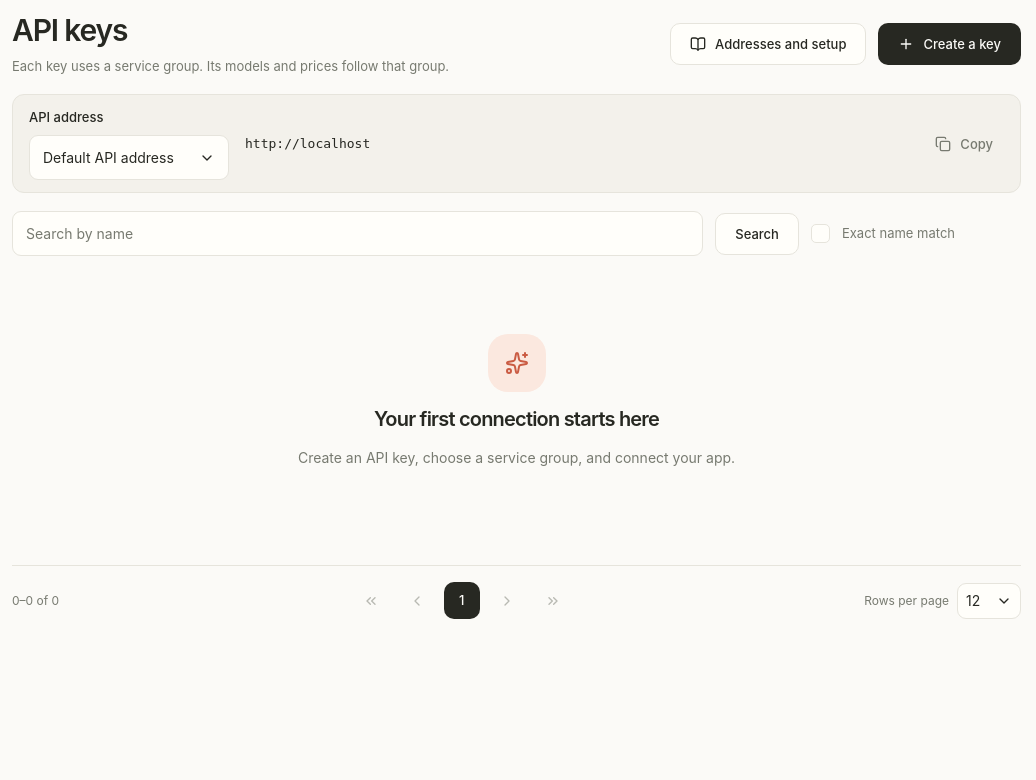
Test: shows a search-specific empty state instead of the first-key onboarding prompt
Type "missing" into the field named "Search keys" at [358, 234], box [12,211,703,256]
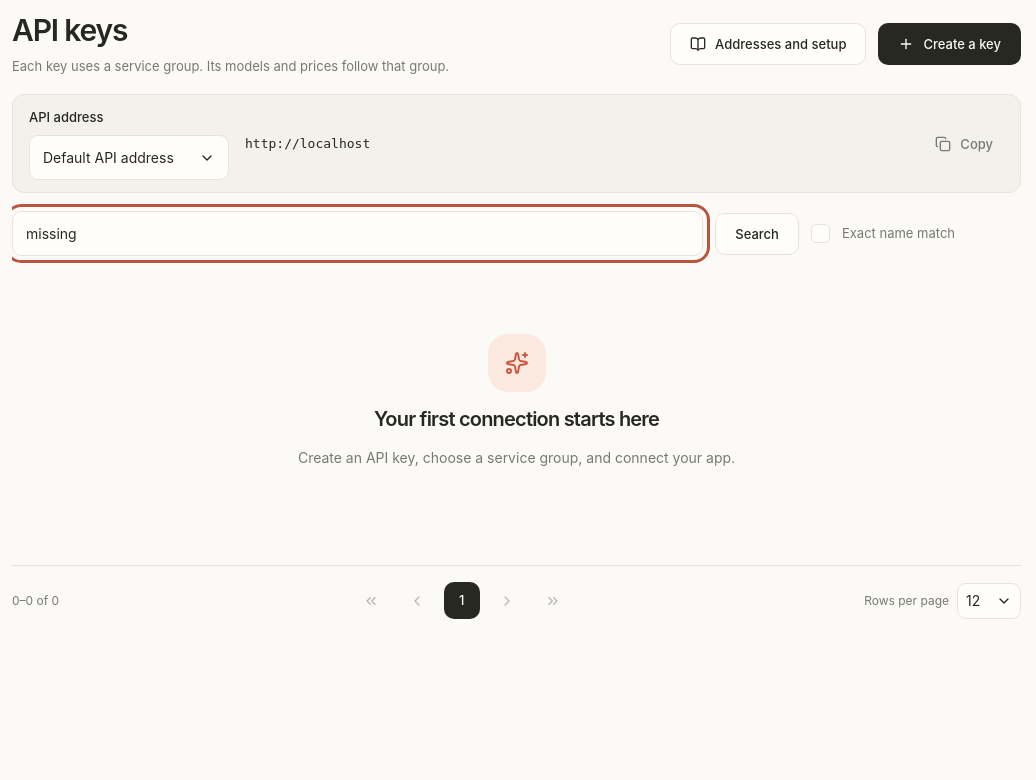
Click the button "Search" at [757, 234], box [715,212,799,255]
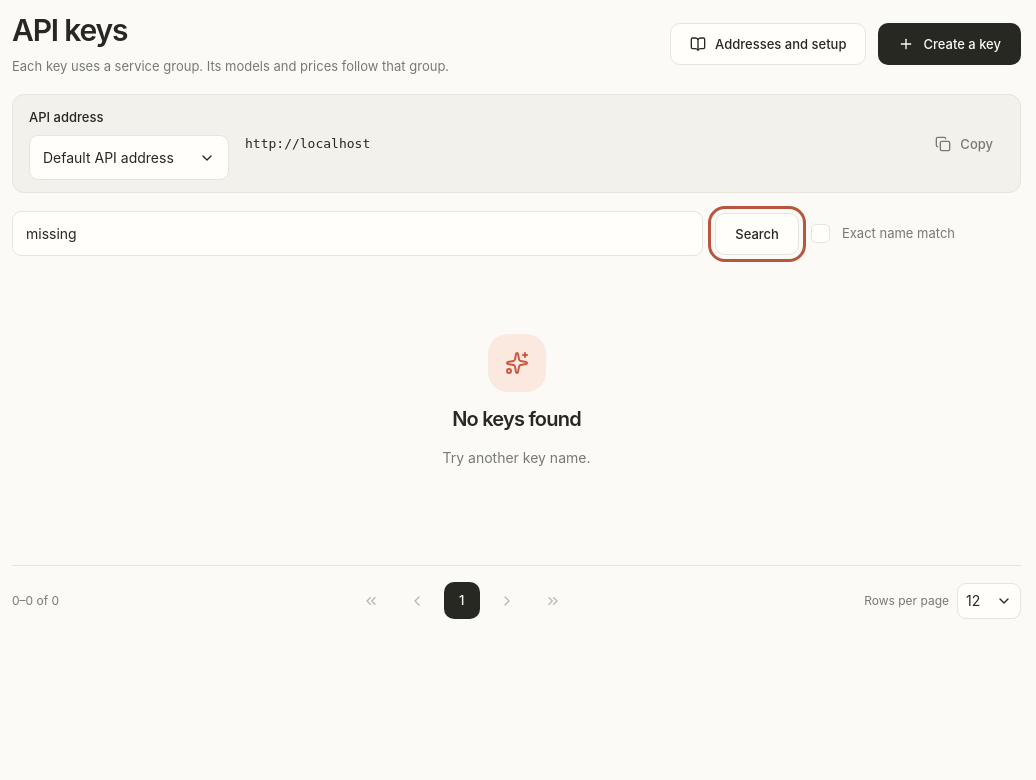
Check: the heading "No keys found" is shown, box [452,407,581,432]
Check: the text "Try another key name." is shown, box [442,447,590,470]
